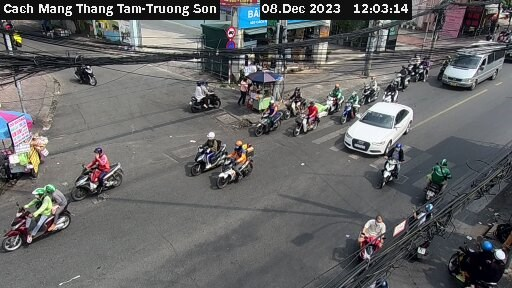car: (340, 99, 425, 156), (440, 37, 509, 91)
motorbike: (6, 189, 82, 252), (64, 149, 136, 198), (455, 232, 512, 288), (336, 212, 388, 265), (402, 202, 448, 258), (181, 130, 232, 174), (416, 159, 461, 200), (177, 77, 225, 114), (373, 147, 410, 188), (218, 153, 265, 183), (67, 53, 103, 88), (249, 102, 281, 137), (292, 105, 324, 138), (385, 65, 414, 92), (375, 76, 402, 103), (319, 80, 345, 108), (279, 85, 304, 114), (340, 93, 363, 123), (354, 73, 372, 101), (413, 58, 431, 81)
